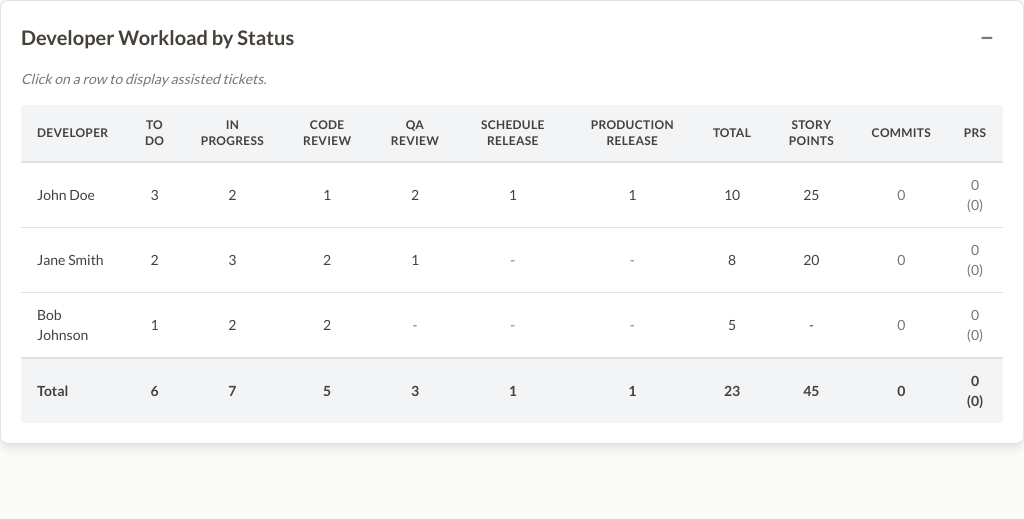
Test: DeveloperWorkload › should show success message for developer with no failures
This screenshot has width=1024, height=519.
Click the text "Jane Smith": x=512, y=260 [21,228,1003,292]
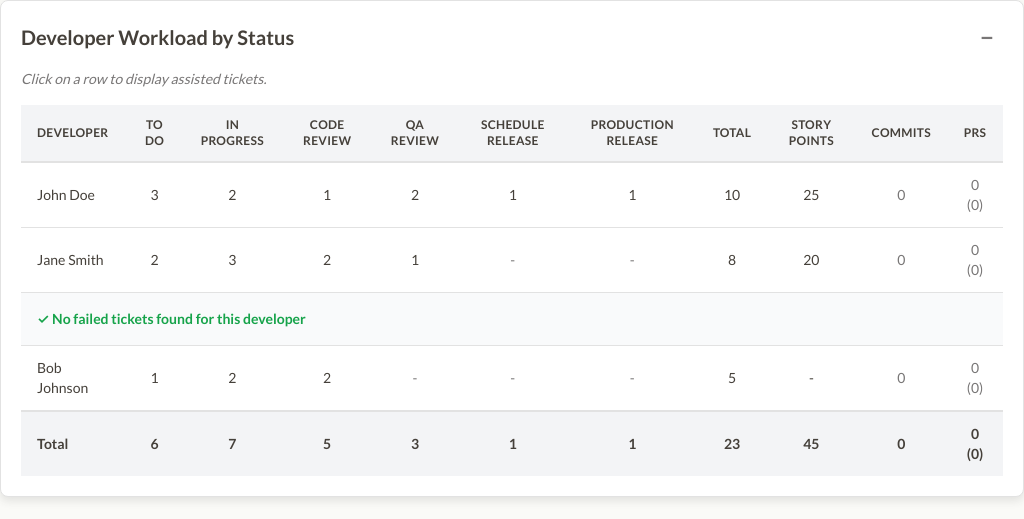
Result: the text "✓ No failed tickets found for this developer" is shown at [37,310,306,327]
